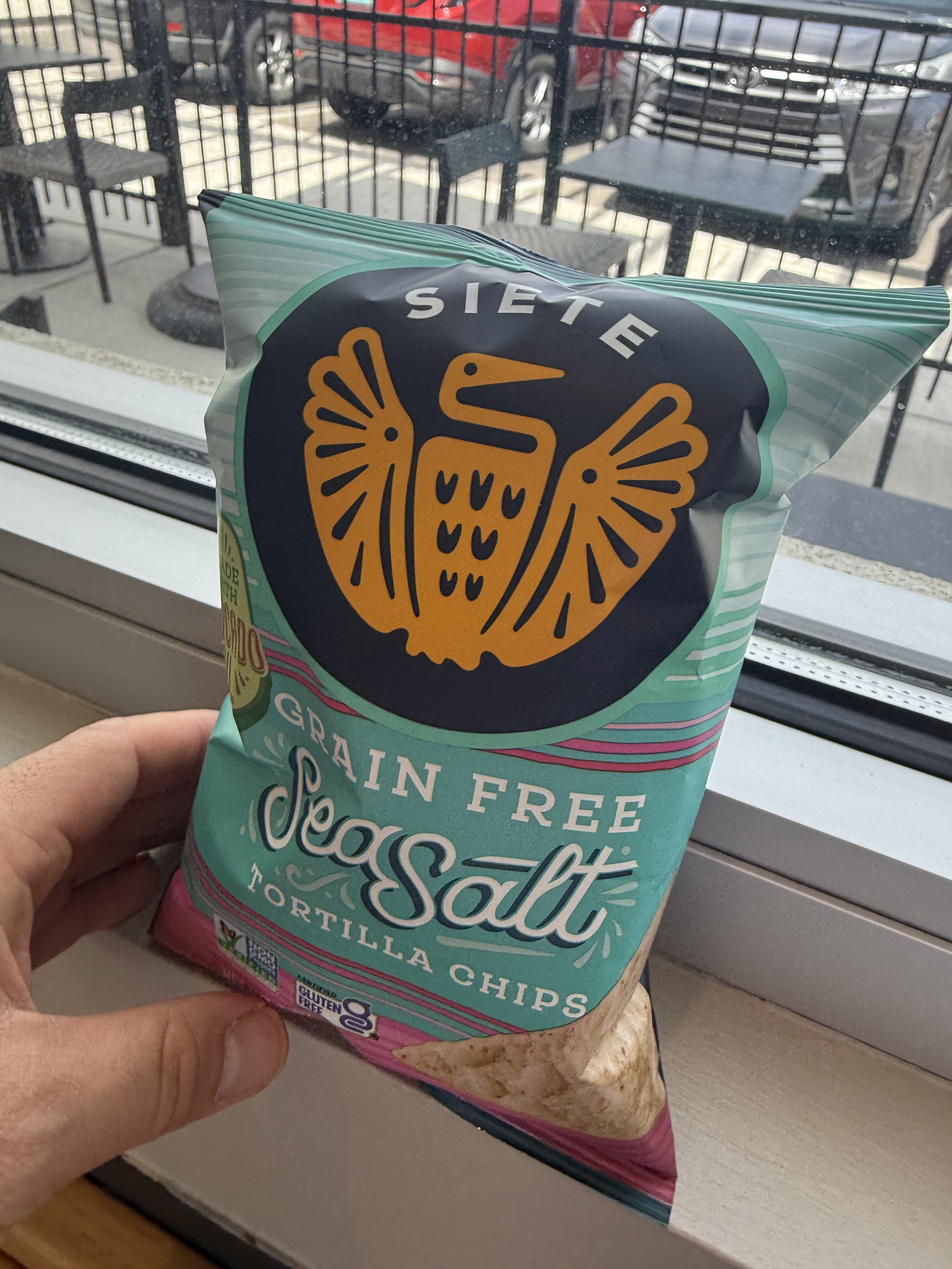sea_salt: (218, 171, 794, 1124)
